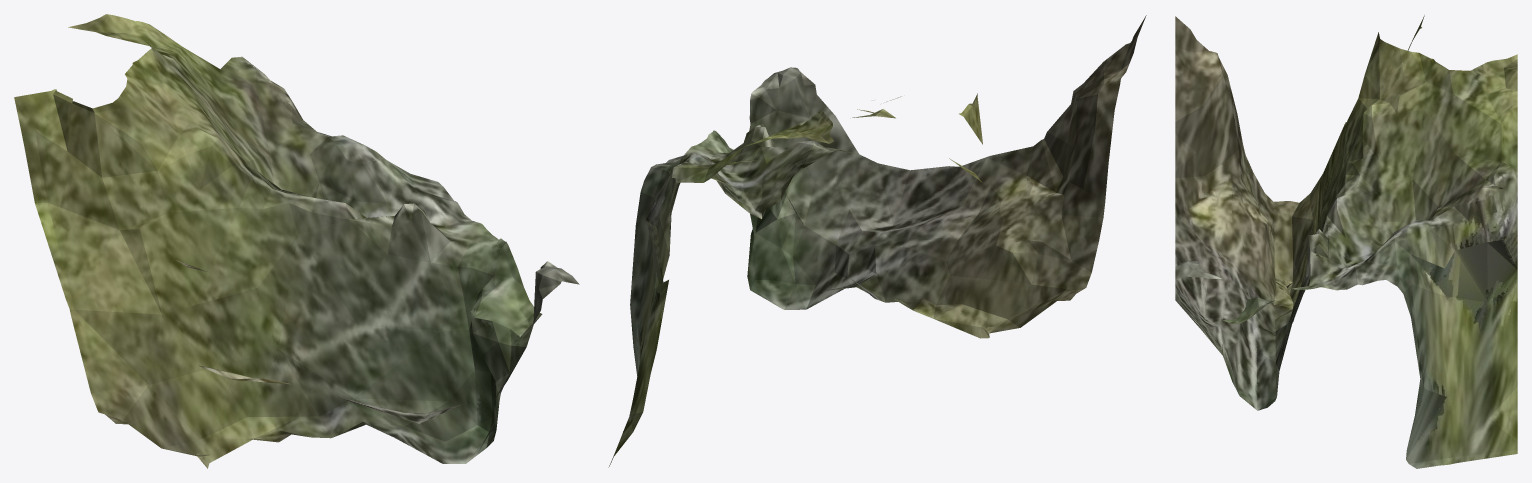
The picture shows the model from 3 angles, left to right: view 1: azimuth 30°, elevation 25°; view 2: azimuth 150°, elevation 25°; view 3: azimuth 270°, elevation 25°; orthographic projection. The views are drawn at different scales.
Bounding box in the file's own units: 2.95 × 2.95 × 2.95.
Materials: 4 (4 with a texture image).
